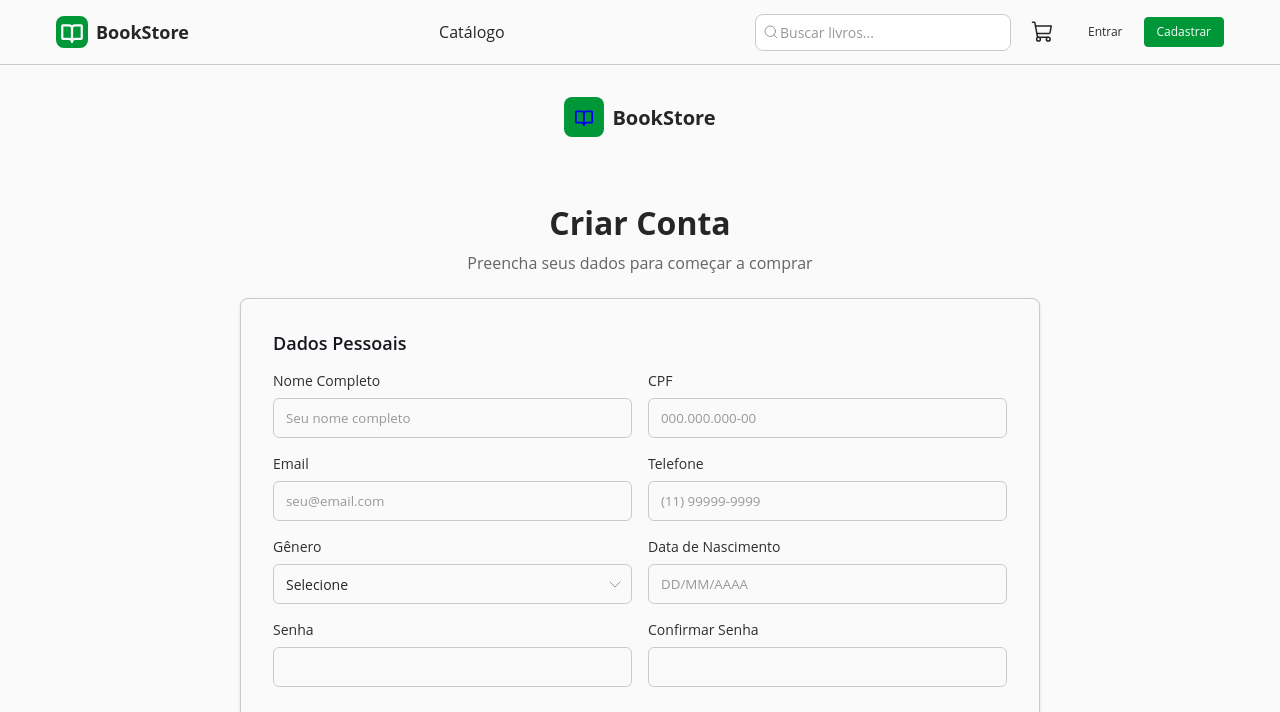
Test case: Sign Up Form › Field Masking and Input Formatting › should apply date mask while typing
The width and height of the screenshot is (1280, 712).
Type "01012005" into the field with test id "birth-date-input" at x=828, y=584, box x1=661 y1=575 x2=994 y2=593
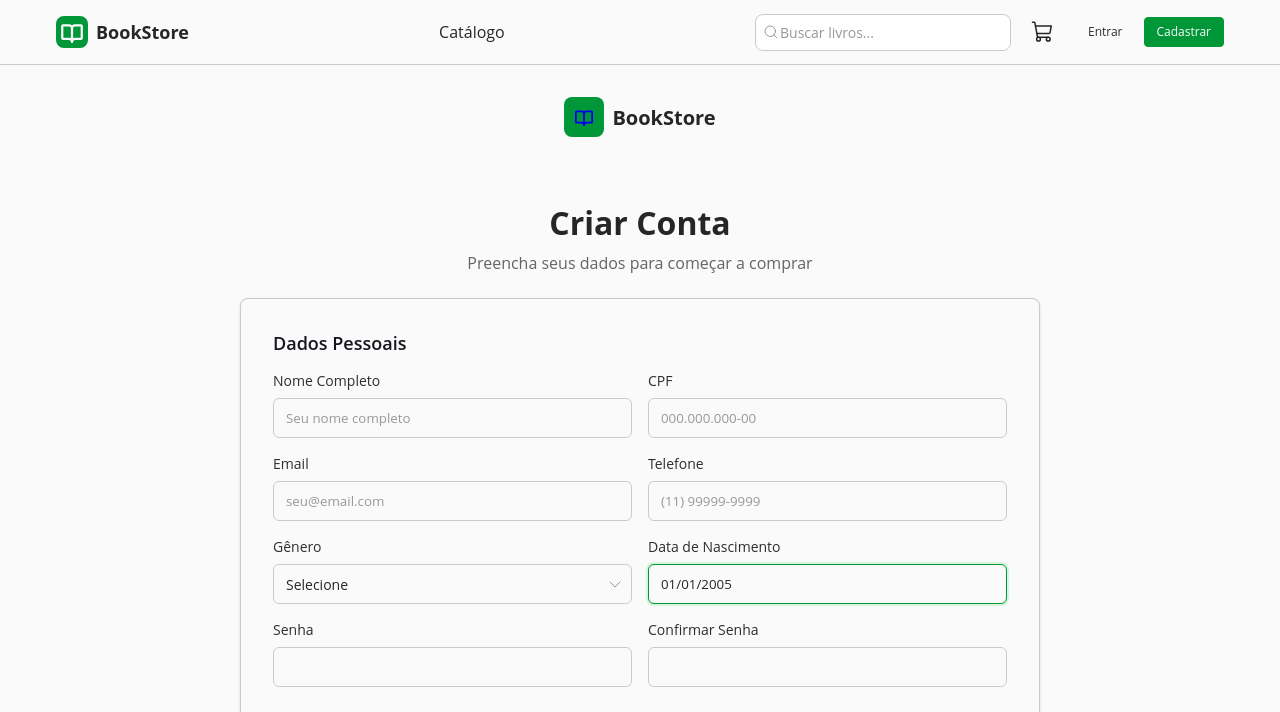
Expected: the field with test id "birth-date-input" holds "01/01/2005", x1=661 y1=575 x2=994 y2=593
